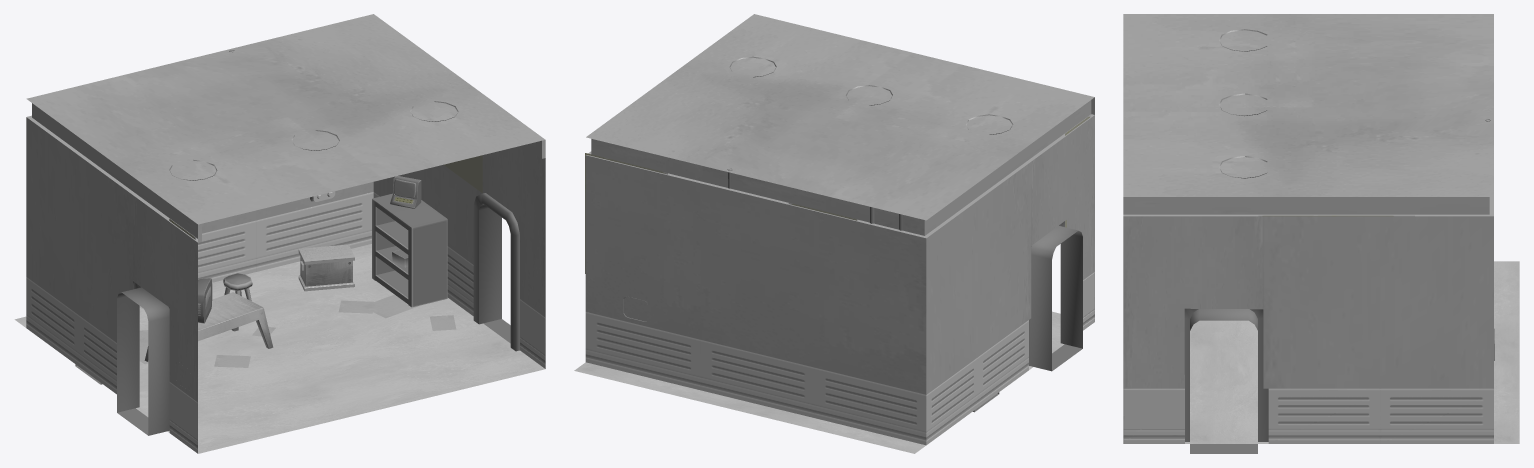
Rendered from MSH_QuestVault_L2_R1_optimized.fbx.
3 renders of one model, left to right at view 1: azimuth 30°, elevation 25°; view 2: azimuth 150°, elevation 25°; view 3: azimuth 270°, elevation 25°, orthographic. The views are drawn at different scales.
Parts seen in each view (by area): view 1: lightmap1, lightmap0, MSH_QuestVault_L2_R1_Papers_02, MSH_QuestVault_L2_R1_Dirt_01; view 2: lightmap1, lightmap0, MSH_QuestVault_L2_R1_Dirt_01; view 3: lightmap1, lightmap0.
Boxes of the visible parts, x1,y1,x2,y2 form: lightmap1: [14, 14, 545, 453]; lightmap0: [75, 50, 519, 435]; MSH_QuestVault_L2_R1_Papers_02: [139, 294, 456, 367]; MSH_QuestVault_L2_R1_Dirt_01: [169, 155, 482, 239]; lightmap1: [574, 14, 1094, 453]; lightmap0: [727, 56, 1082, 412]; MSH_QuestVault_L2_R1_Dirt_01: [585, 115, 1090, 273]; lightmap1: [1123, 14, 1519, 443]; lightmap0: [1184, 29, 1490, 453].
Size of the model in its own units: 10.3 by 6.02 by 8.52.
4 materials, 4 textured.
